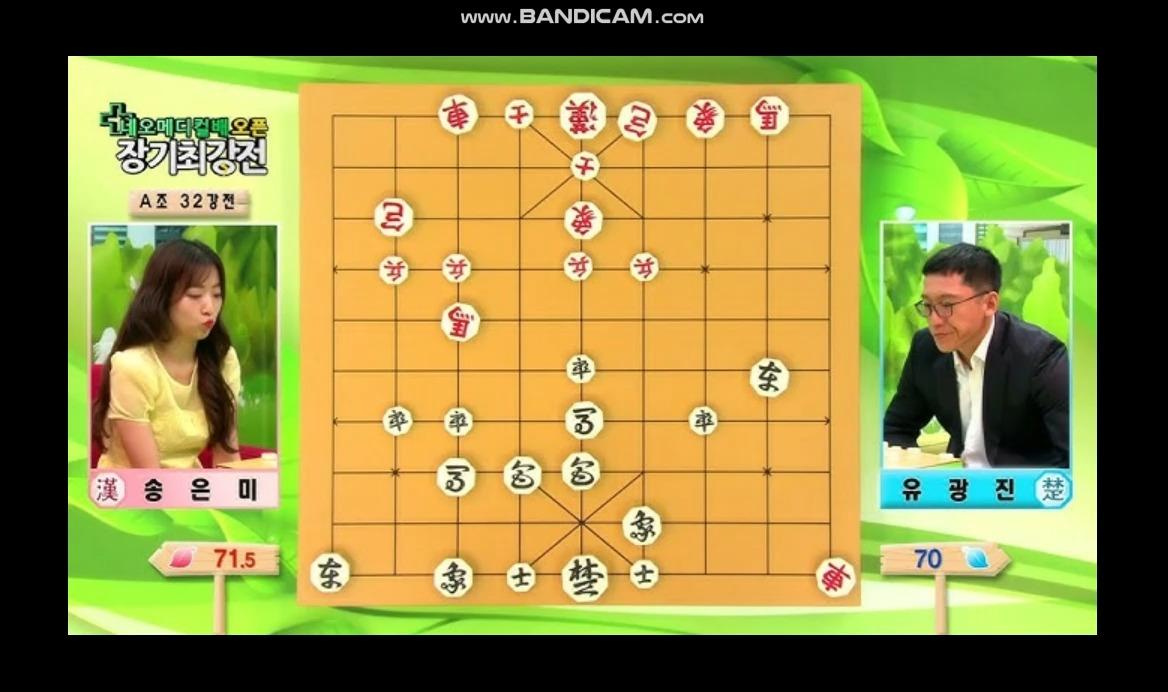cha_green: (308, 554, 352, 591), (749, 359, 791, 396)
cha_red: (438, 94, 480, 134), (815, 559, 856, 595)
jol_green: (687, 406, 722, 435), (381, 407, 415, 434), (564, 355, 599, 381), (441, 409, 475, 435)
jol_red: (377, 257, 411, 283), (630, 253, 662, 280), (563, 253, 596, 279), (442, 255, 474, 281)
ma_green: (563, 404, 605, 441), (436, 460, 478, 496)
ma_red: (747, 97, 791, 133), (440, 304, 481, 339)
po_green: (560, 454, 601, 491), (504, 457, 544, 493)
po_red: (373, 199, 416, 236), (618, 103, 659, 140)
sa_green: (504, 565, 538, 591), (627, 562, 661, 587)
sa_red: (502, 101, 536, 128), (569, 153, 603, 178)
sang_green: (433, 558, 475, 596), (621, 508, 662, 545)
sang_red: (685, 102, 724, 137), (564, 204, 603, 238)
wang_green: (563, 555, 609, 599)
wang_red: (556, 91, 609, 140)
